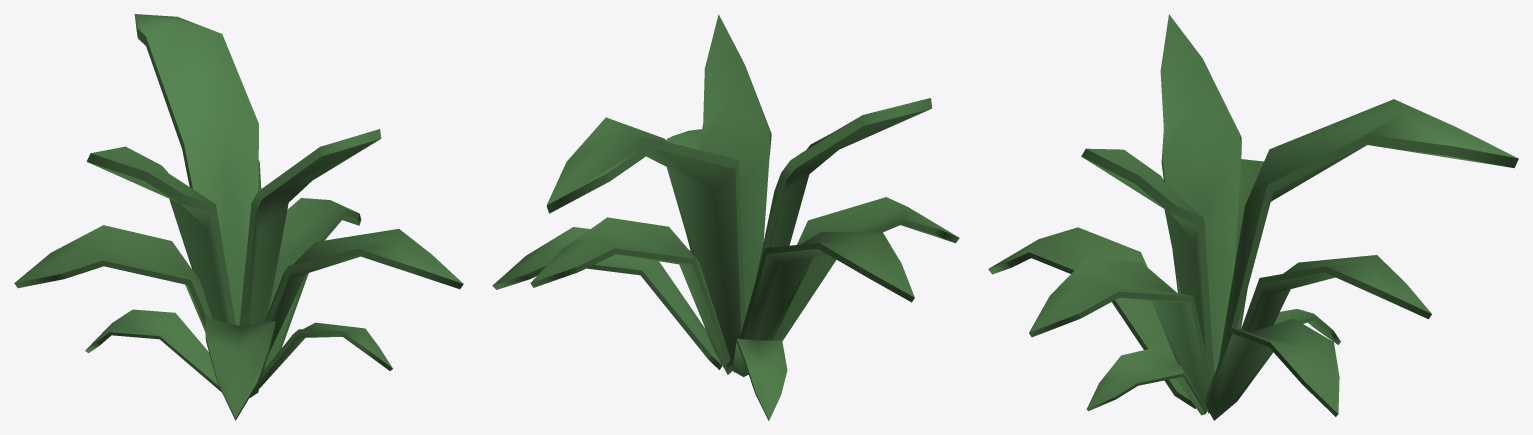
File: SM_Bush_09.fbx
3 renders of one model, left to right at view 1: azimuth 30°, elevation 25°; view 2: azimuth 150°, elevation 25°; view 3: azimuth 270°, elevation 25°, orthographic. The views are drawn at different scales.
Visible parts, largest first — view 1: SM_Bush_09; view 2: SM_Bush_09; view 3: SM_Bush_09.
Part boxes in pixels (bbox=[...]): SM_Bush_09: bbox=[14, 14, 463, 420]; SM_Bush_09: bbox=[492, 14, 959, 420]; SM_Bush_09: bbox=[988, 14, 1518, 420].
Size of the model in its own units: 174 by 130 by 200.
